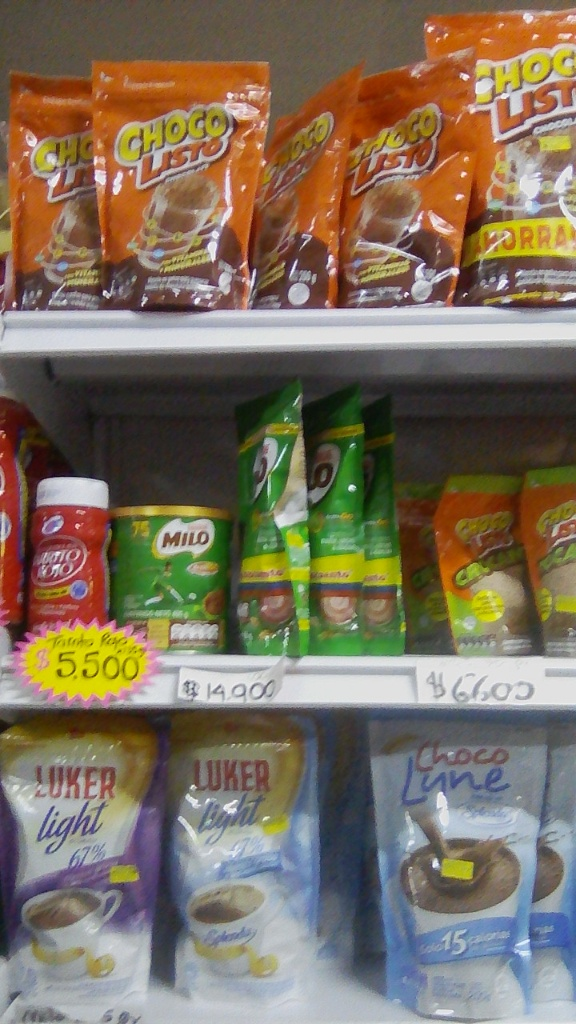COL0170102DYP25000: (434, 468, 539, 658)
COL0170103DYP20000: (360, 42, 470, 305)
COL0170103DYP40000: (433, 5, 576, 310)
COL0170203DYP50000: (234, 380, 306, 653)
COL0170203LAT40000: (107, 503, 234, 661)
